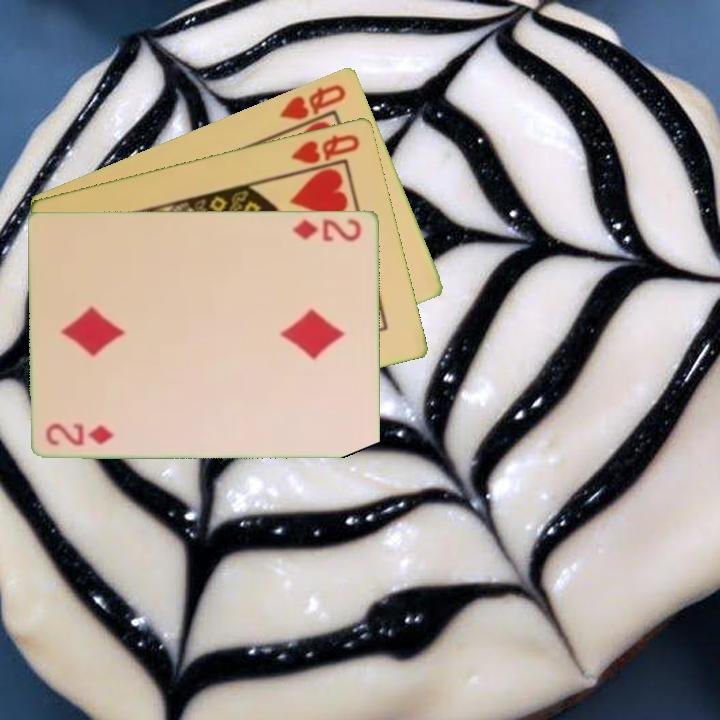2d: (290, 215, 365, 244), (43, 420, 117, 448)
Qh: (276, 80, 349, 123), (287, 130, 363, 167)
